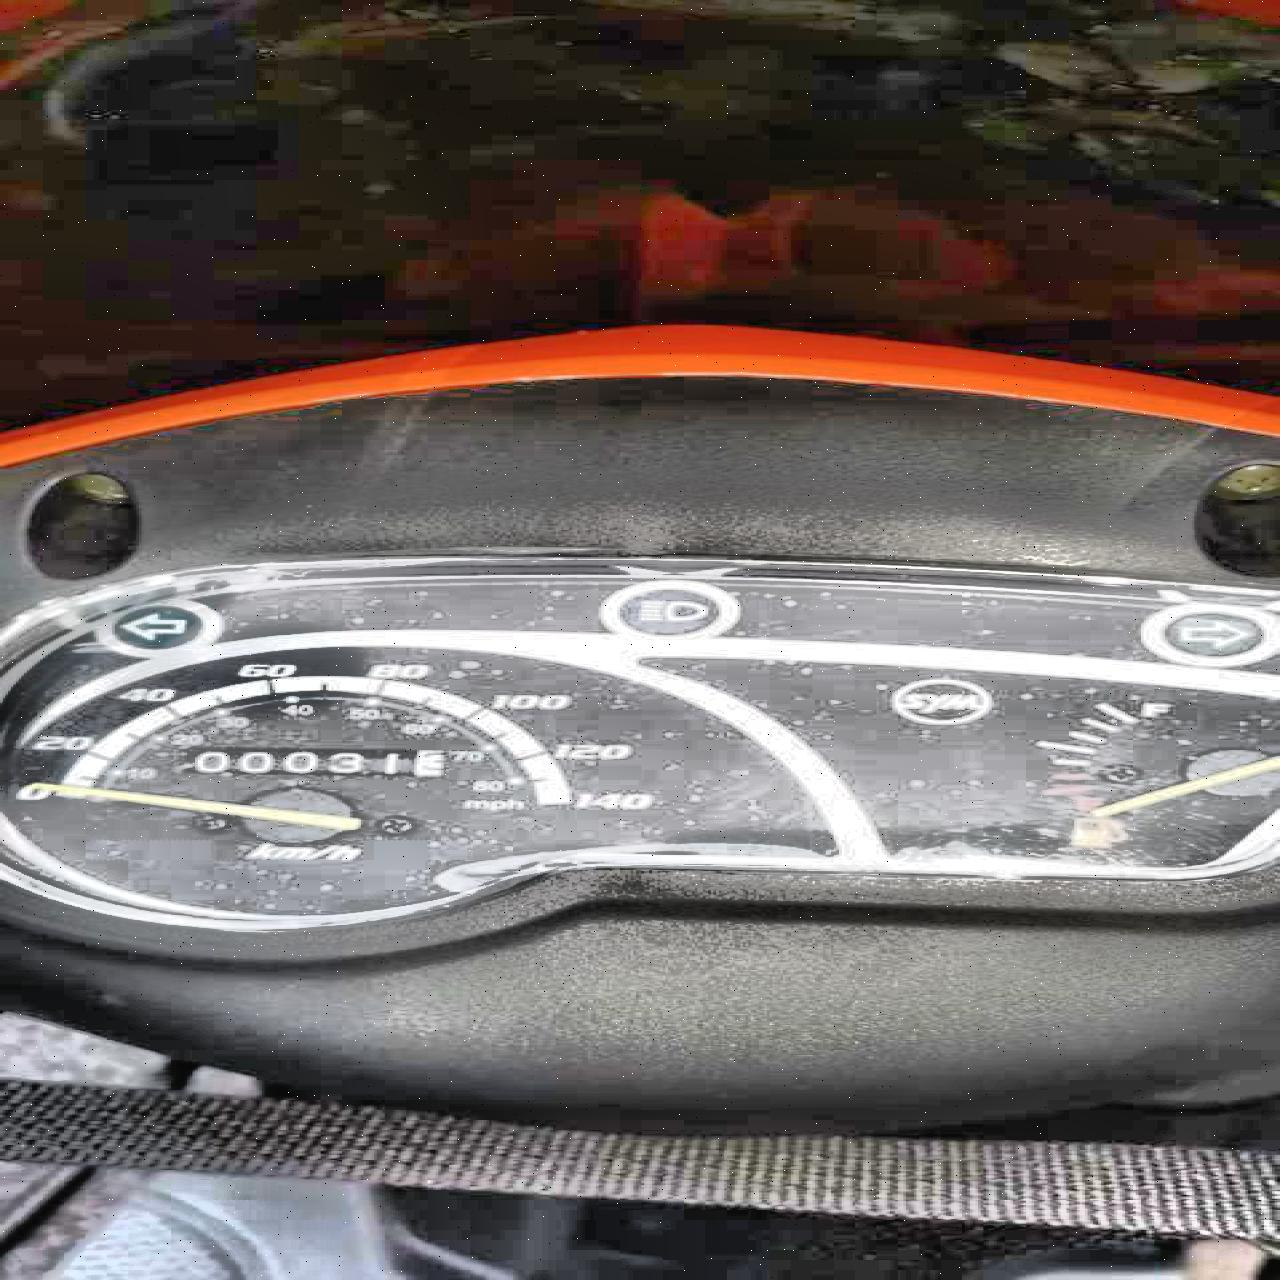0: (236, 750, 273, 772), (190, 750, 227, 772), (278, 751, 315, 772)
1: (377, 750, 401, 774)
3: (324, 751, 363, 771), (420, 750, 443, 770)
odometer: (157, 743, 451, 778)
